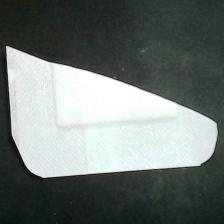Cut: (3, 38, 224, 179)
